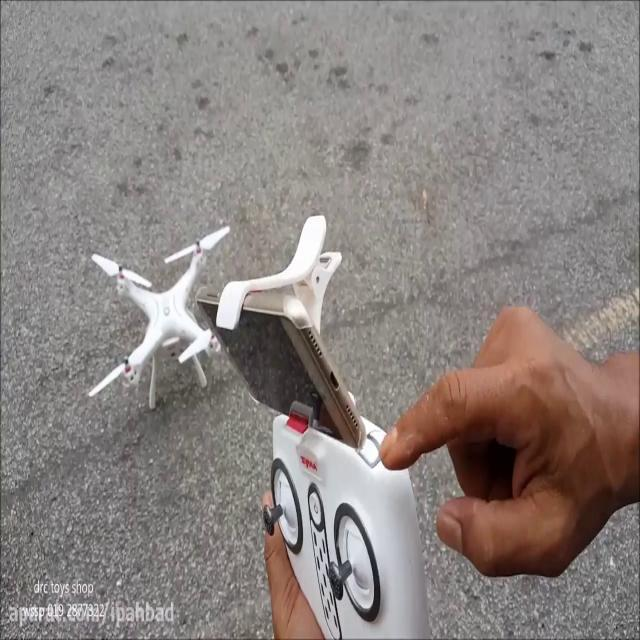drone: (85, 224, 229, 416)
